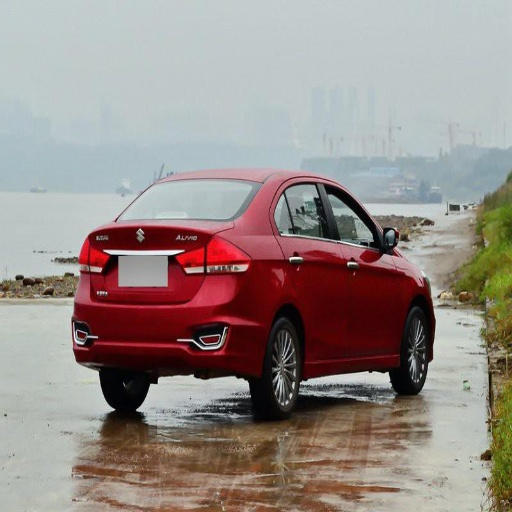back_bumper: (71, 275, 271, 369)
back_right_door: (272, 177, 351, 358)
tailgate: (91, 218, 194, 273)
trunk: (82, 224, 214, 316)
